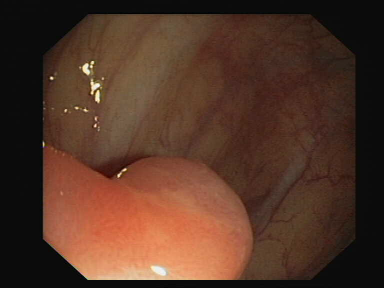polyp: (73, 106, 295, 273)
